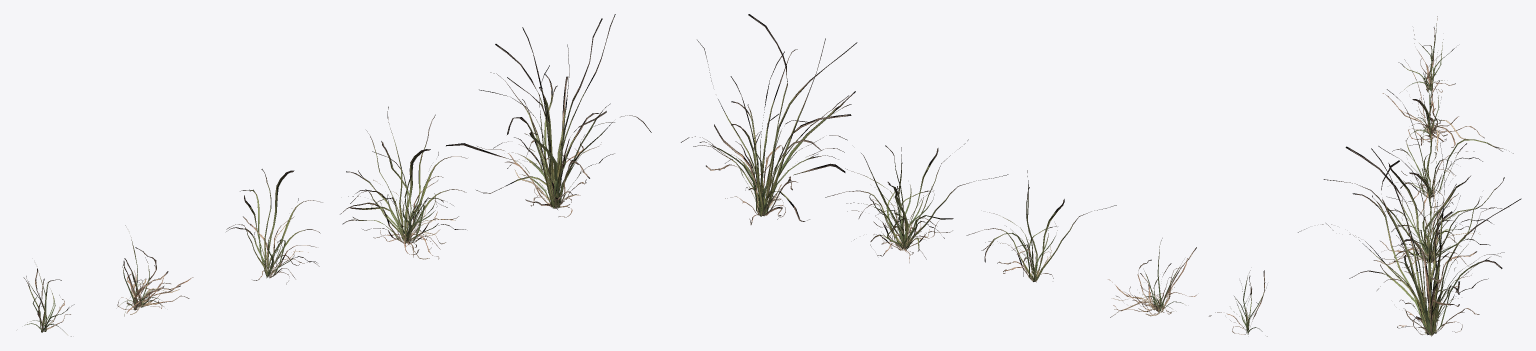
Rendered from ph_grass_medium_02.glb.
The picture shows the model from 3 angles, left to right: view 1: azimuth 30°, elevation 25°; view 2: azimuth 150°, elevation 25°; view 3: azimuth 270°, elevation 25°; orthographic projection. The views are drawn at different scales.
Parts seen in each view (by area): view 1: grass_medium_02_a; view 2: grass_medium_02_a; view 3: grass_medium_02_a.
Boxes of the visible parts, x1,y1,x2,y2 form: grass_medium_02_a: [23, 14, 651, 336]; grass_medium_02_a: [681, 14, 1267, 336]; grass_medium_02_a: [1298, 16, 1521, 336].
Bounding box in the file's own units: 1.31 × 0.4056 × 0.4332.
1 material, 1 textured.
